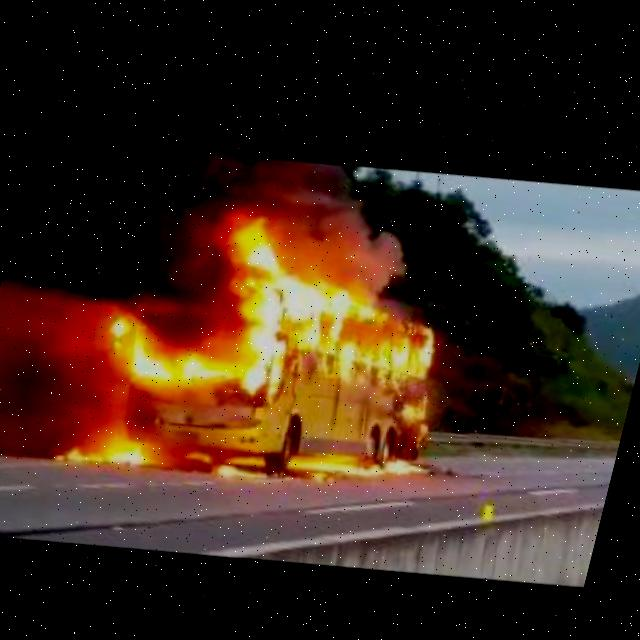fire: (192, 180, 468, 440), (90, 296, 230, 407), (290, 425, 432, 496), (39, 411, 164, 483), (392, 384, 437, 442), (213, 450, 273, 486), (223, 442, 268, 470)
